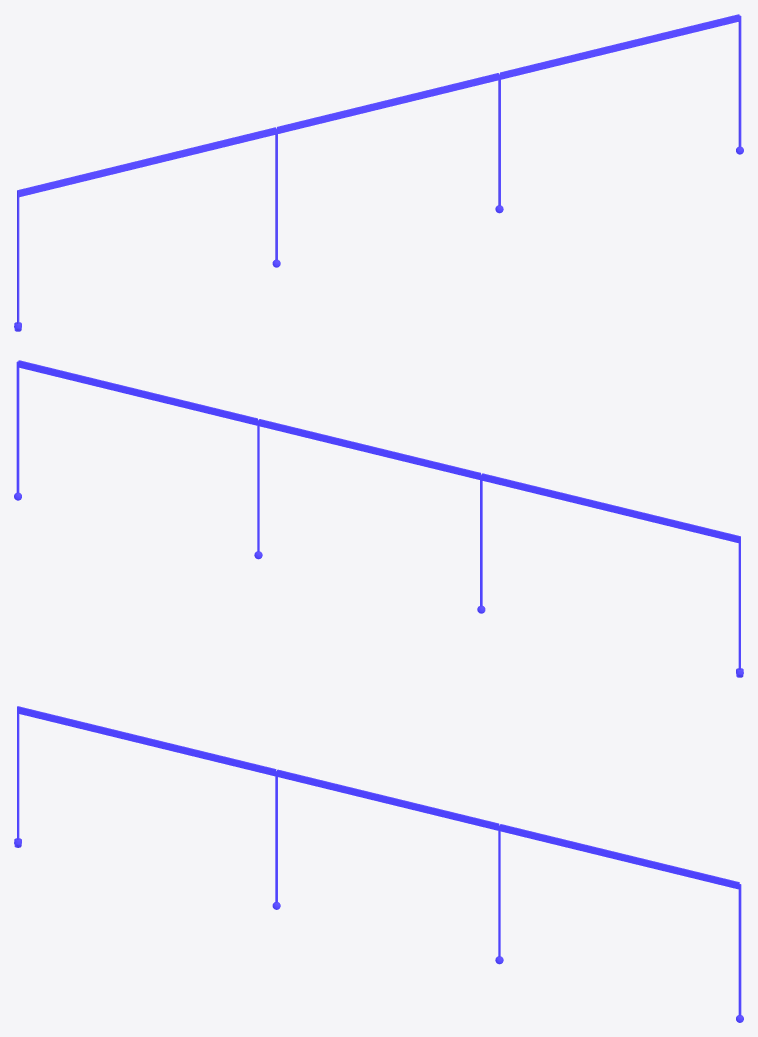
The model's file is SegnSocial4.gltf.
The picture shows the model from 3 angles, top to bottom: view 1: azimuth 30°, elevation 25°; view 2: azimuth 150°, elevation 25°; view 3: azimuth 330°, elevation 25°; orthographic projection.
Parts seen in each view (by area): view 1: ListnerModuli.013; view 2: ListnerModuli.013; view 3: ListnerModuli.013.
Boxes of the visible parts, x1=… form: ListnerModuli.013: x1=14, y1=14, x2=743, y2=331; ListnerModuli.013: x1=14, y1=360, x2=743, y2=677; ListnerModuli.013: x1=14, y1=706, x2=743, y2=1022.
Size of the model in its own units: 4.34 by 0.7956 by 0.0421.
